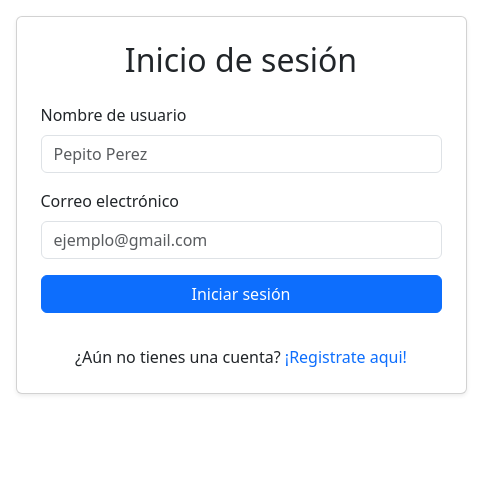
Test: LoginForm › muestra el mensaje de éxito si los datos son válidos
This screenshot has width=484, height=487.
Type "Pepito" into the field with placeholder "Pepito Perez".
click(241, 154); type("Pepito")  # box [40,135,442,173]
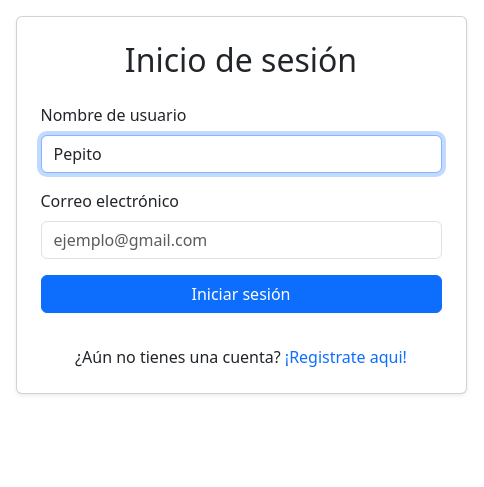
Type "pepito@gmail.com" into the field with placeholder "ejemplo@gmail.com".
click(241, 240); type("pepito@gmail.com")  # box [40,221,442,259]
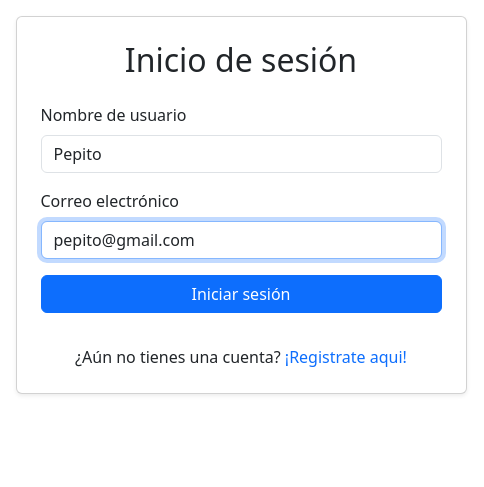
Click the button "Iniciar sesión".
click(241, 294)  # box [40,275,442,313]
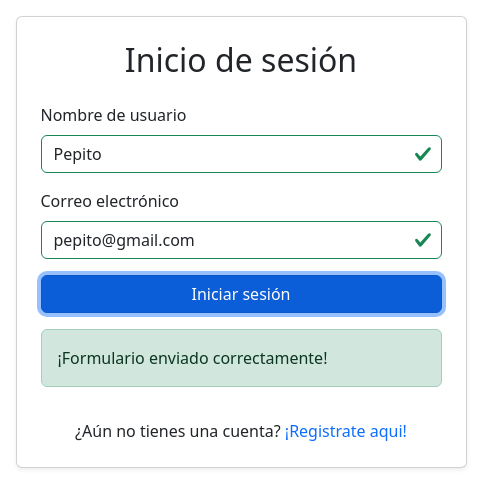
Result: the text "¡Formulario enviado correctamente!" is shown at [40,329,442,387]
